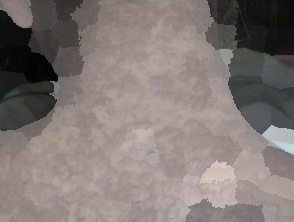SJS-TEN: (13, 0, 272, 218)
